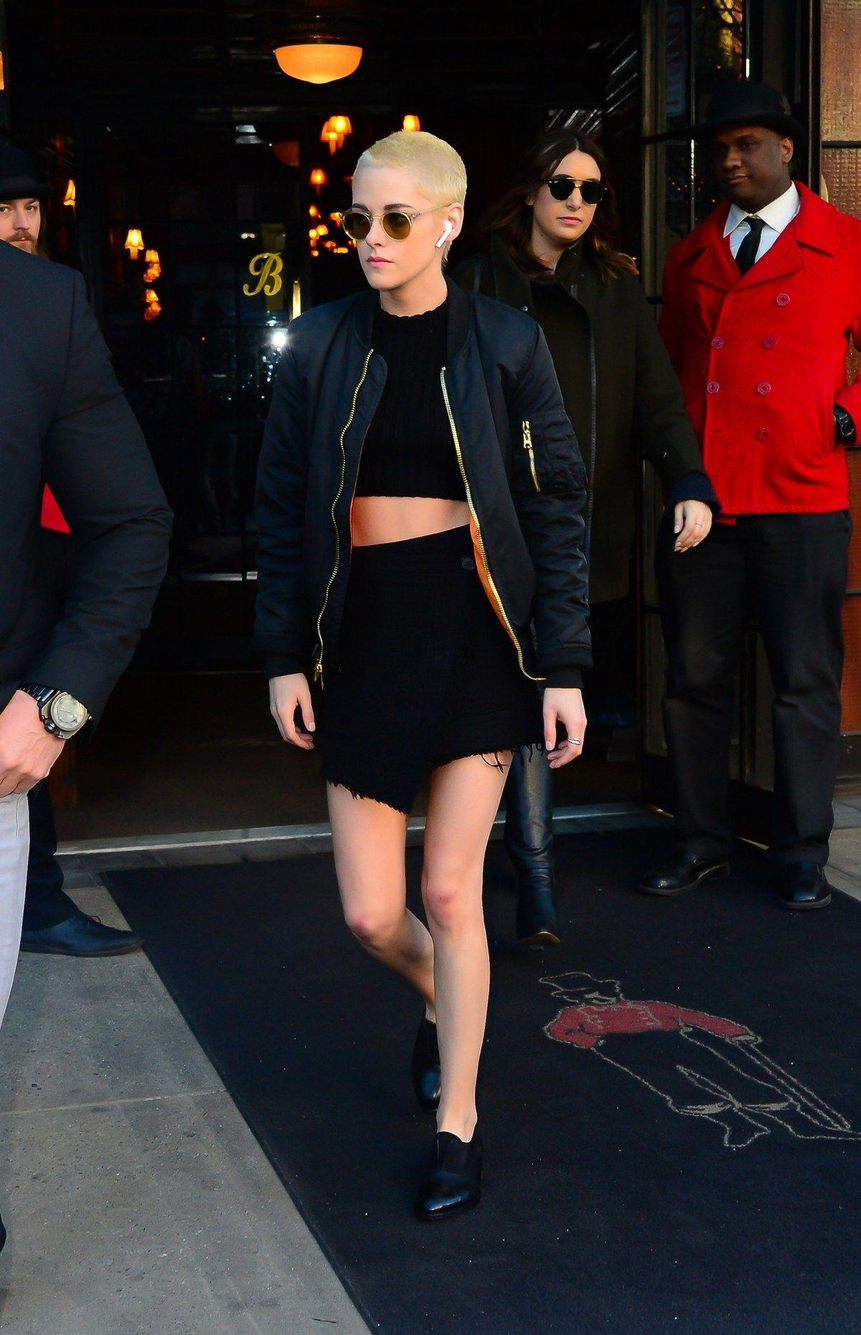earphone: (426, 212, 455, 259)
